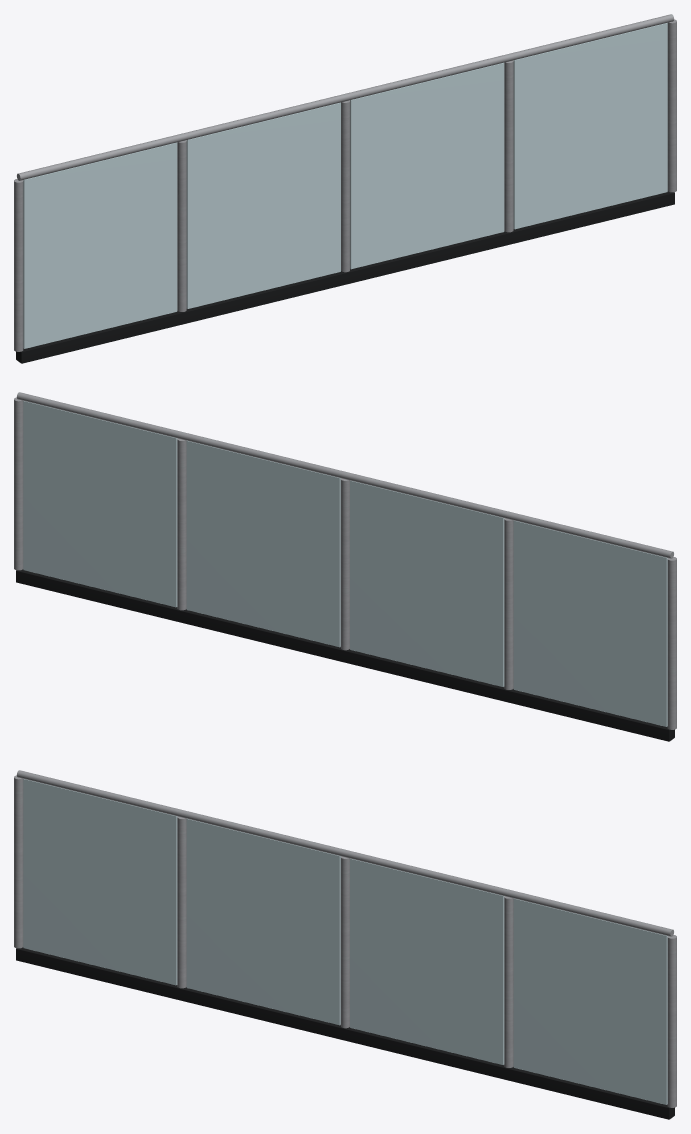
Rendered from gteki_railing_run_glass_h1100_l4000.glb.
3 views of the same model, one above another, from view 1: azimuth 30°, elevation 25°; view 2: azimuth 150°, elevation 25°; view 3: azimuth 330°, elevation 25° (orthographic).
Parts seen in each view (by area): view 1: VIS_glass, VIS_base_channel, VIS_posts, VIS_rails; view 2: VIS_glass, VIS_base_channel, VIS_posts, VIS_rails; view 3: VIS_glass, VIS_base_channel, VIS_posts, VIS_rails.
Boxes of the visible parts, x1,y1,x2,y2 form: VIS_glass: (23,23,667,348); VIS_base_channel: (16,191,674,363); VIS_posts: (14,19,676,351); VIS_rails: (17,14,673,180); VIS_glass: (23,401,667,726); VIS_base_channel: (16,569,674,741); VIS_posts: (14,397,676,729); VIS_rails: (17,392,673,558); VIS_glass: (23,779,667,1104); VIS_base_channel: (16,947,674,1119); VIS_posts: (14,775,676,1107); VIS_rails: (17,770,673,936).
Bounding box in the file's own units: 4.05 × 1.1 × 0.06.
Materials: 3 (1 with a texture image).
